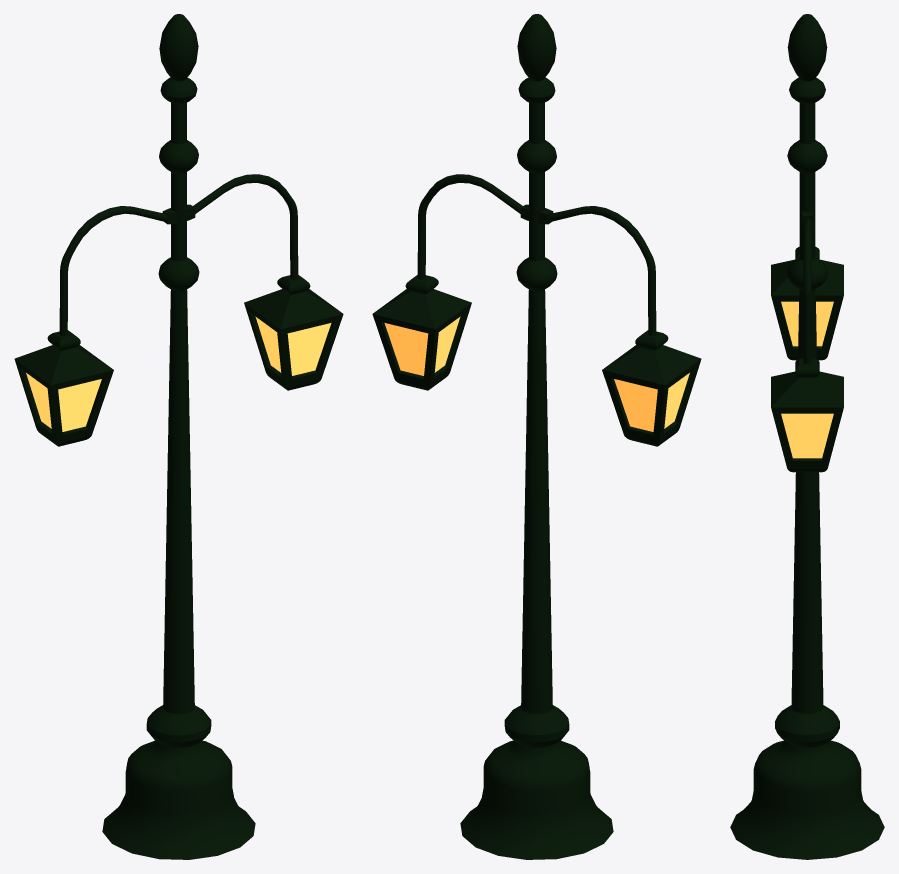
File: lamp.glb
3 views of the same model, side by side, from view 1: azimuth 30°, elevation 25°; view 2: azimuth 150°, elevation 25°; view 3: azimuth 270°, elevation 25° (orthographic).
Visible parts, largest first — view 1: Circle_2, Cube_3; view 2: Circle_2, Cube_3; view 3: Circle_2, Cube_3.
Part boxes in pixels (x1=…): Circle_2: x1=59, y1=14, x2=298, y2=859; Cube_3: x1=14, y1=275, x2=343, y2=446; Circle_2: x1=417, y1=14, x2=656, y2=859; Cube_3: x1=372, y1=275, x2=701, y2=446; Circle_2: x1=730, y1=14, x2=884, y2=859; Cube_3: x1=771, y1=246, x2=843, y2=472.
Bounding box in the file's own units: 4.37 × 11.58 × 2.
